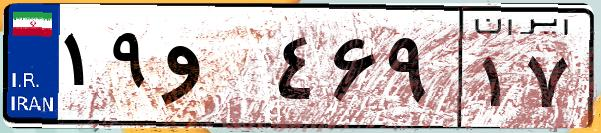1: (57, 26, 110, 100), (475, 38, 525, 113)
4: (270, 28, 330, 110)
6: (330, 28, 385, 110)
7: (525, 38, 570, 115)
9: (385, 28, 445, 110), (110, 28, 158, 98)
و: (158, 20, 270, 120)
